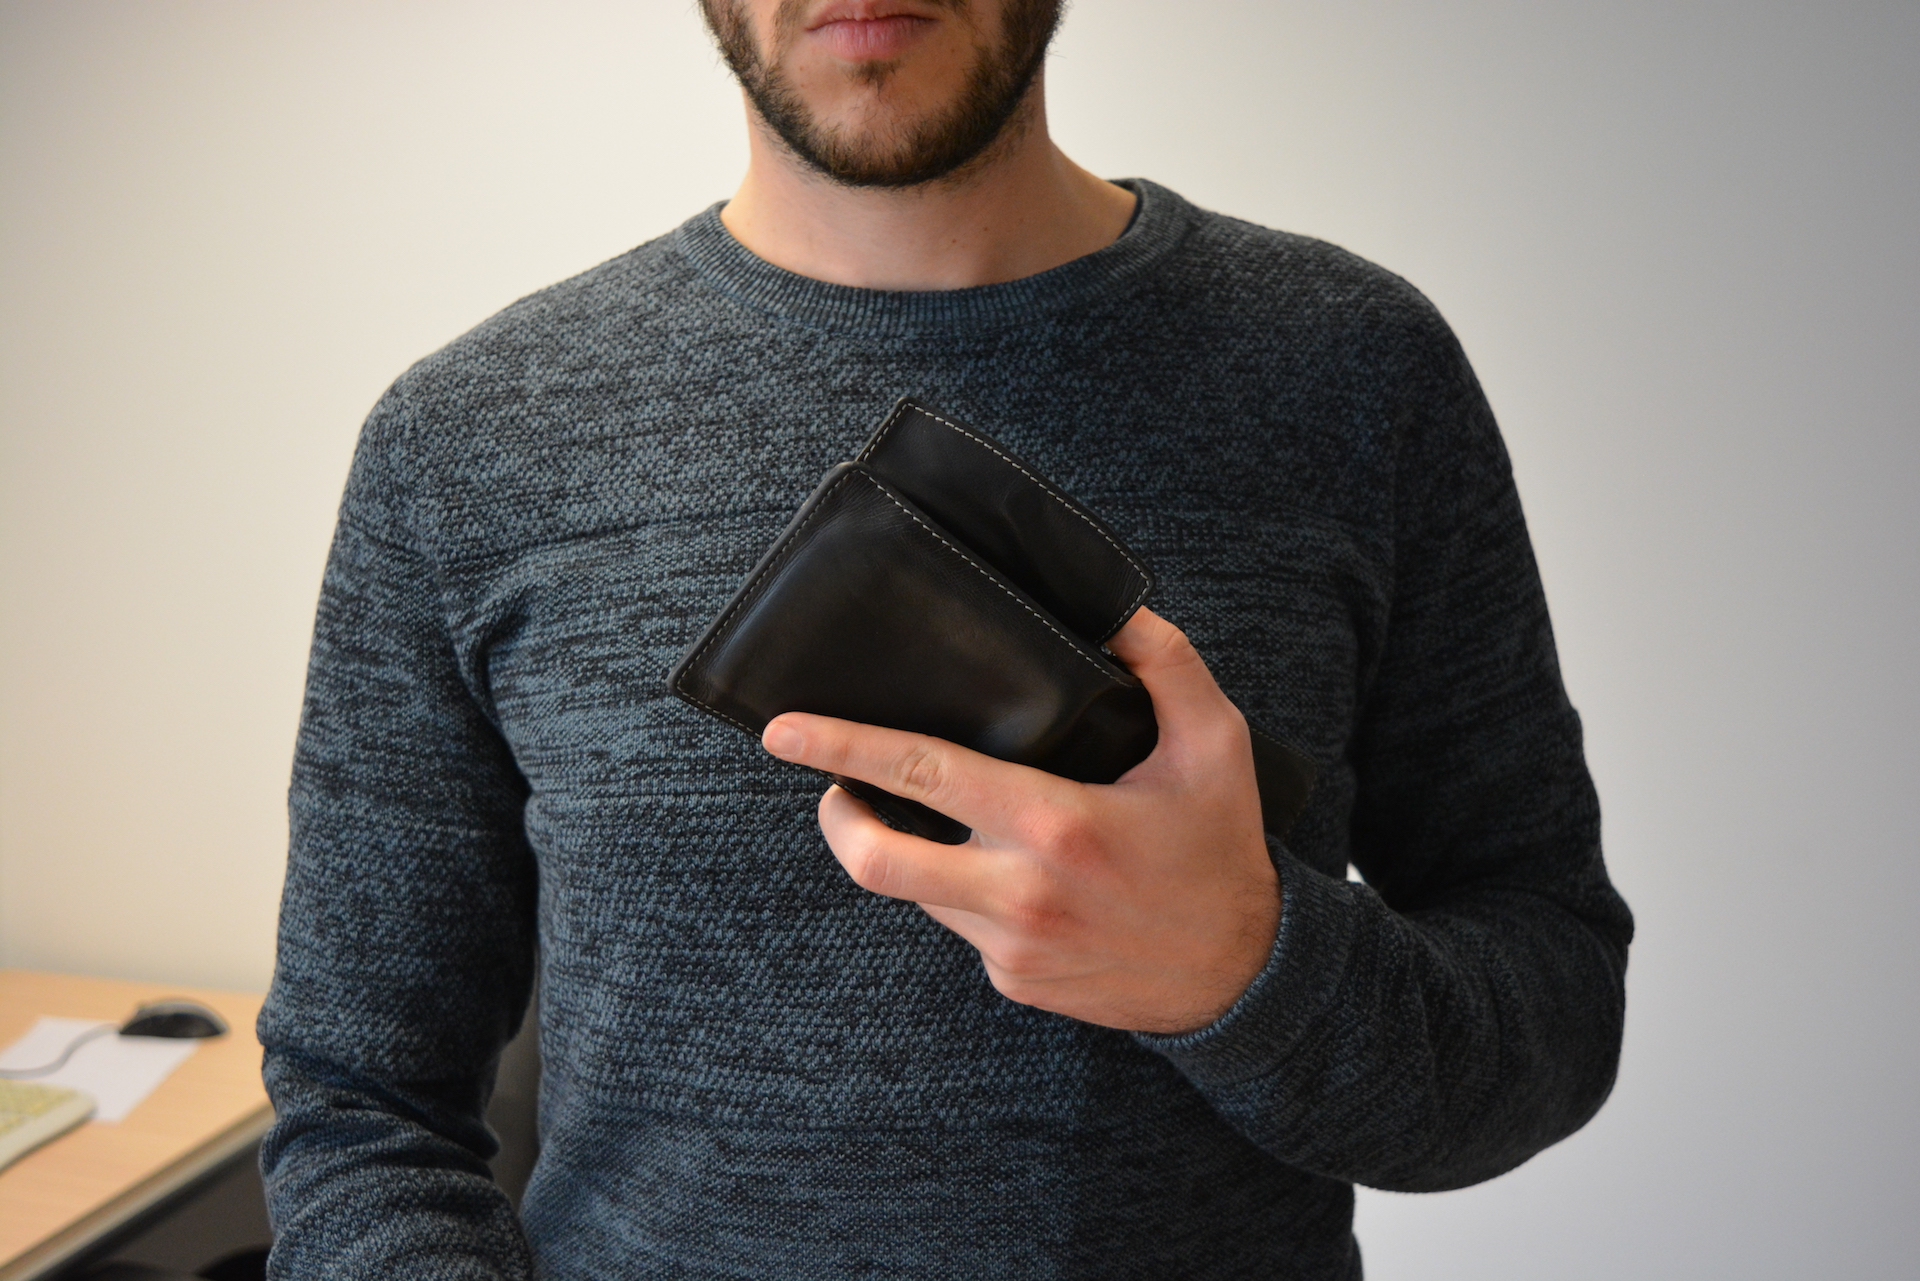monedero: (662, 392, 1330, 856)
